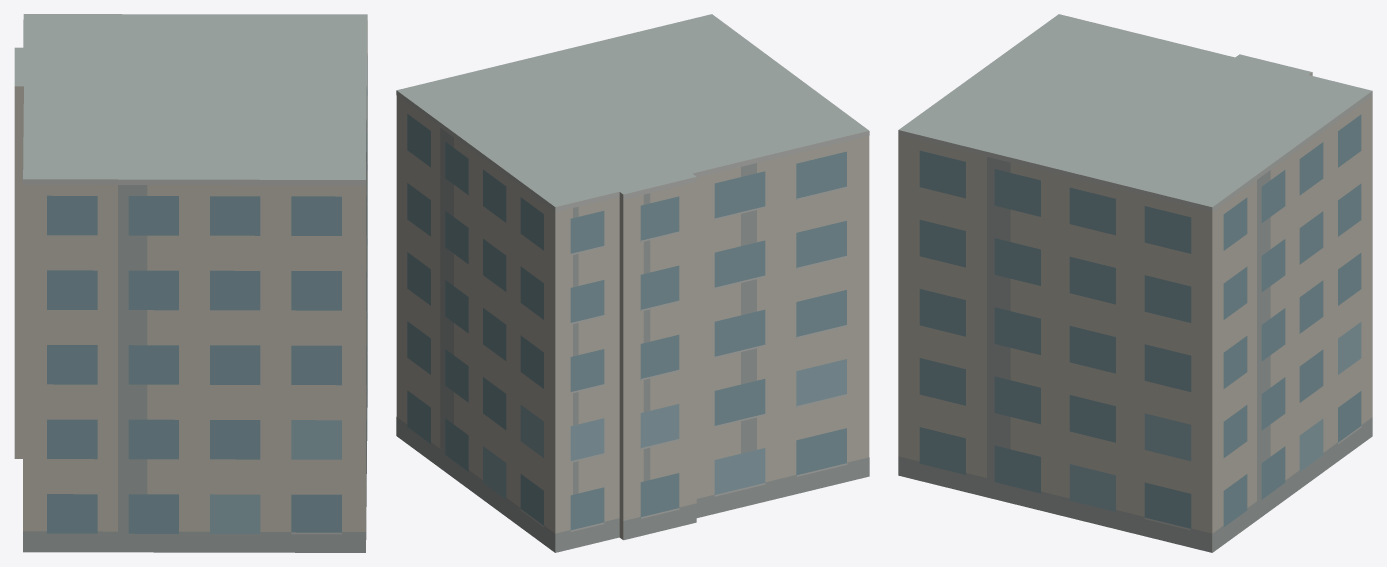
Rendered from survey-upis-32832325.glb.
The picture shows the model from 3 angles, left to right: view 1: azimuth 30°, elevation 25°; view 2: azimuth 150°, elevation 25°; view 3: azimuth 270°, elevation 25°; orthographic projection. The views are drawn at different scales.
Parts seen in each view (by area): view 1: survey-upis-32832325.tmp; view 2: survey-upis-32832325.tmp; view 3: survey-upis-32832325.tmp.
Boxes of the visible parts, x1,y1,x2,y2 form: survey-upis-32832325.tmp: (14,14,367,552); survey-upis-32832325.tmp: (396,14,869,552); survey-upis-32832325.tmp: (898,14,1372,552).
Size of the model in its own units: 20.16 by 16.8 by 20.89.
